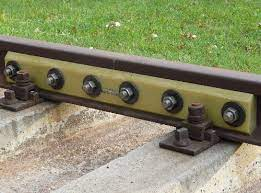insulated joint: (3, 50, 258, 140)
